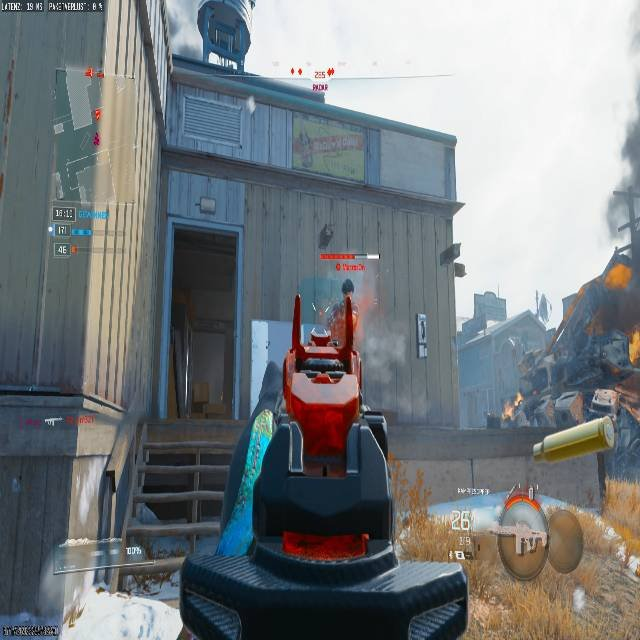head: (340, 278, 354, 296)
player: (327, 280, 360, 364)
